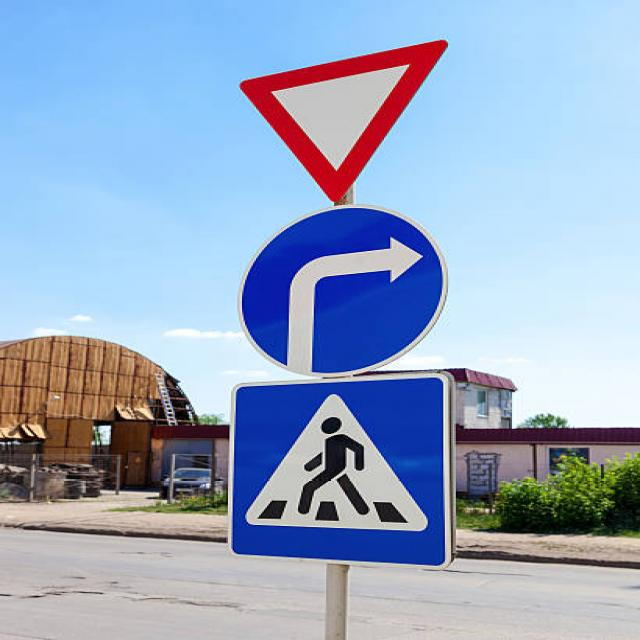compulsory_keep_right: (215, 199, 454, 381)
give_way: (208, 30, 472, 207)
